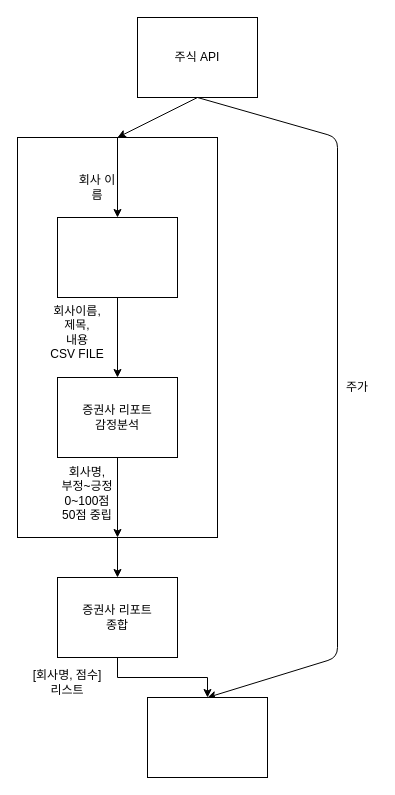
The diagram is 395 pixels wide and 795 high, and some of its shapes have lost their labels. Here are the shapes that lost their labels. From the top down, the box of each, then its label:
(56, 216, 178, 298): 증권사 리포트 크롤러
(146, 696, 268, 778): 투자 종합
